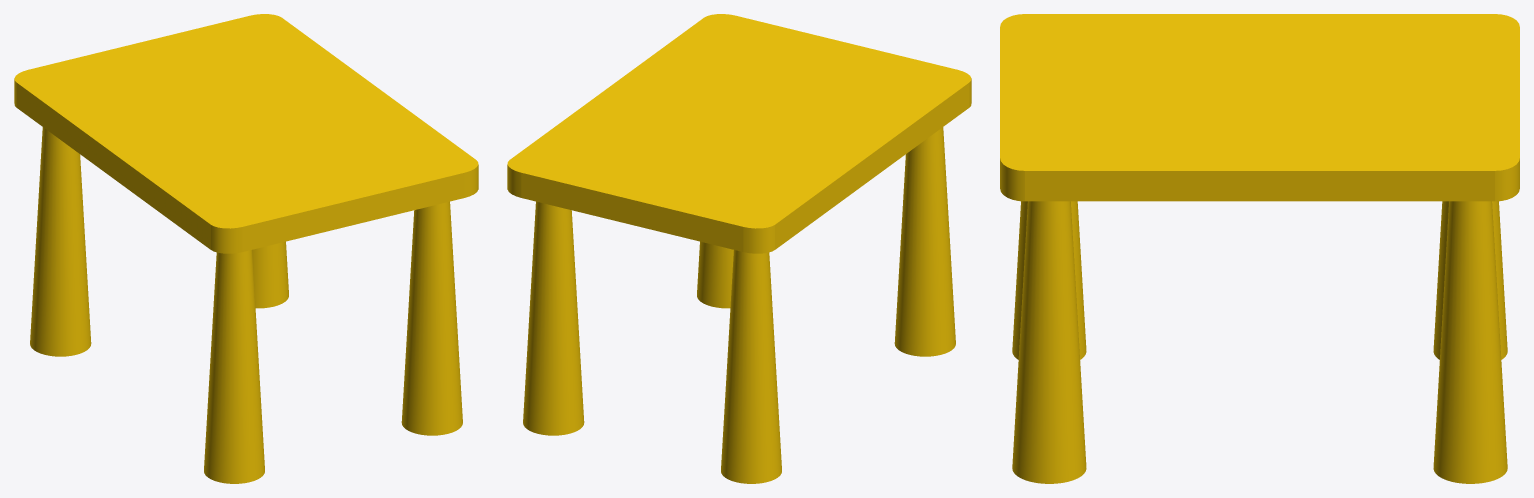
The model's file is children_table.glb.
3 views of the same model, side by side, from view 1: azimuth 30°, elevation 25°; view 2: azimuth 150°, elevation 25°; view 3: azimuth 270°, elevation 25° (orthographic). The views are drawn at different scales.
Visible parts, largest first — view 1: Object_2; view 2: Object_2; view 3: Object_2.
Part boxes in pixels (x1,y1,x2,y2): Object_2: [14, 14, 478, 483]; Object_2: [507, 14, 971, 483]; Object_2: [1000, 14, 1519, 483].
Bounding box in the file's own units: 55 × 51.88 × 77.
Materials: 1 (1 with a texture image).
